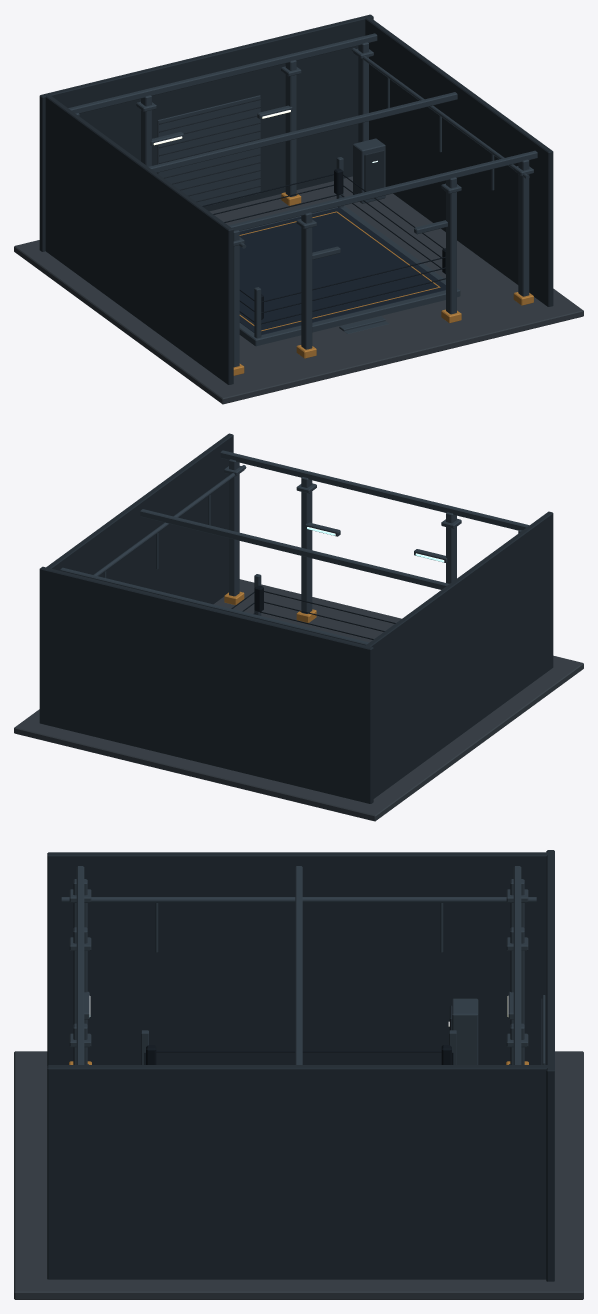
File: industrial_arena.fbx
The picture shows the model from 3 angles, top to bottom: view 1: azimuth 30°, elevation 25°; view 2: azimuth 150°, elevation 25°; view 3: azimuth 270°, elevation 25°; orthographic projection. The views are drawn at different scales.
Parts seen in each view (by area): view 1: SM_IE_IndustrialArena; view 2: SM_IE_IndustrialArena; view 3: SM_IE_IndustrialArena.
Boxes of the visible parts, <box> form: SM_IE_IndustrialArena: <box>14,14,583,404</box>; SM_IE_IndustrialArena: <box>14,433,583,821</box>; SM_IE_IndustrialArena: <box>14,850,583,1299</box>.
Size of the model in its own units: 1200 by 1200 by 511.
